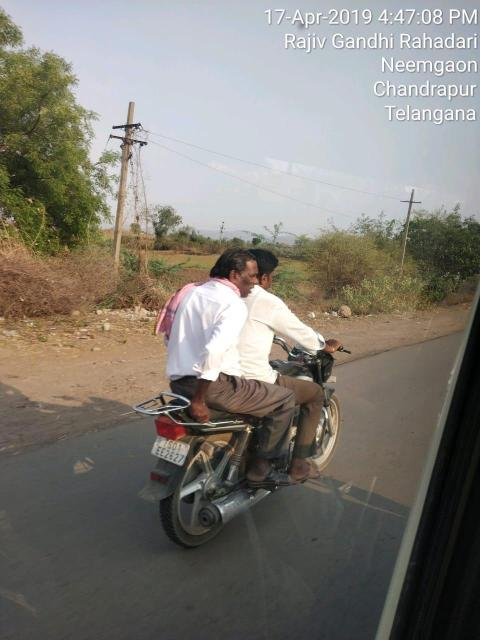motor: (133, 341, 352, 549)
non-helm: (216, 249, 259, 297), (259, 250, 279, 289)
